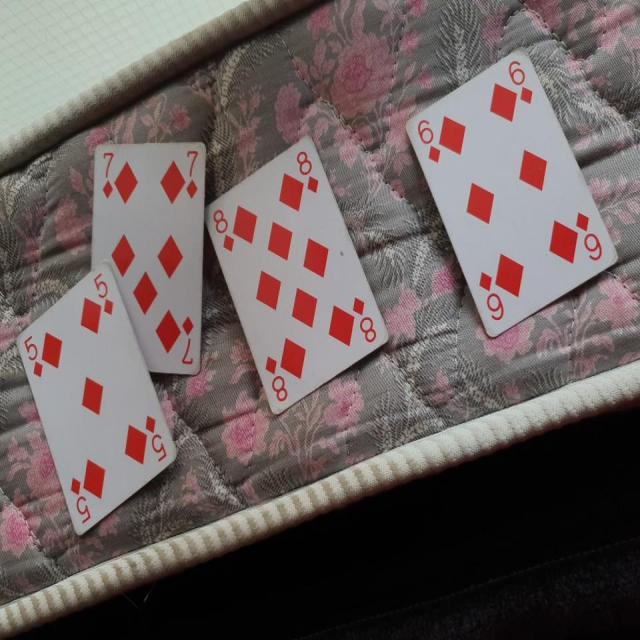5 Diamonds: (14, 260, 182, 537)
6 Diamonds: (403, 43, 618, 340)
7 Diamonds: (90, 140, 208, 376)
8 Diamonds: (206, 134, 392, 417)
